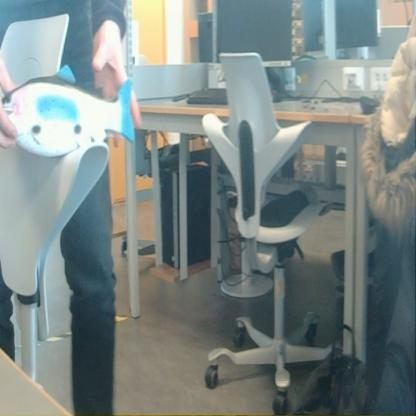rubberfish: (0, 66, 138, 160)
